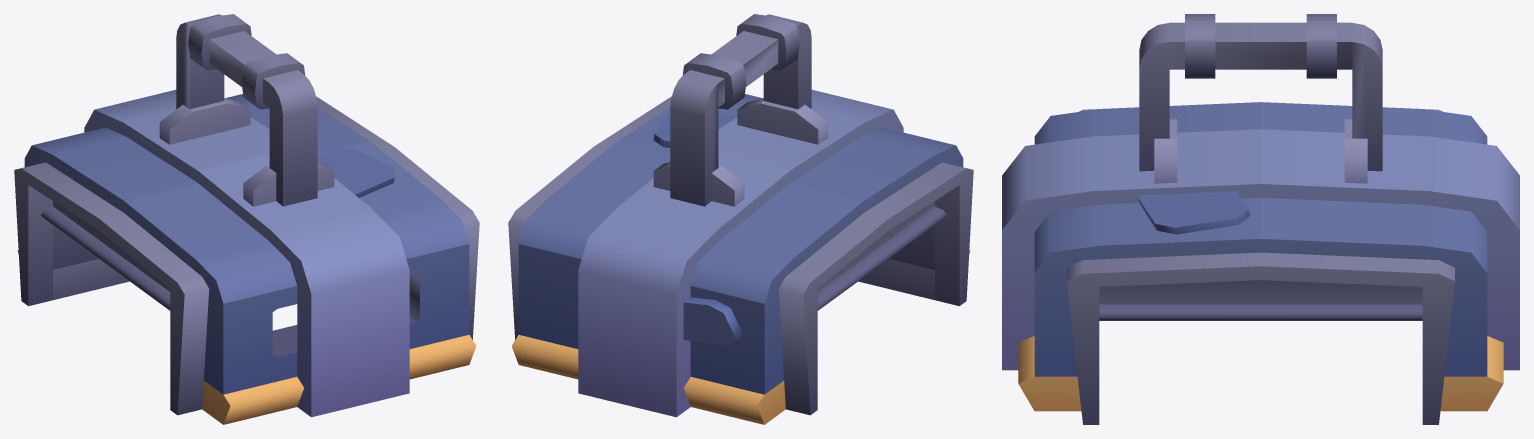
The model's file is SU_Pillbox_LOD0.glb.
3 views of the same model, side by side, from view 1: azimuth 30°, elevation 25°; view 2: azimuth 150°, elevation 25°; view 3: azimuth 270°, elevation 25° (orthographic). The views are drawn at different scales.
Visible parts, largest first — view 1: machine-fortified, scanner-low; view 2: machine-fortified, scanner-low; view 3: machine-fortified, scanner-low.
Boxes of the visible parts, left/top/right/bottom form: machine-fortified: left=14, top=89, right=479, bottom=424; scanner-low: left=159, top=14, right=334, bottom=206; machine-fortified: left=508, top=89, right=973, bottom=424; scanner-low: left=653, top=14, right=828, bottom=206; machine-fortified: left=1002, top=102, right=1519, bottom=424; scanner-low: left=1139, top=14, right=1382, bottom=183.
Size of what is drawn, in the model's own units: 2.04 by 1.86 by 2.72.
2 materials, 2 textured.
